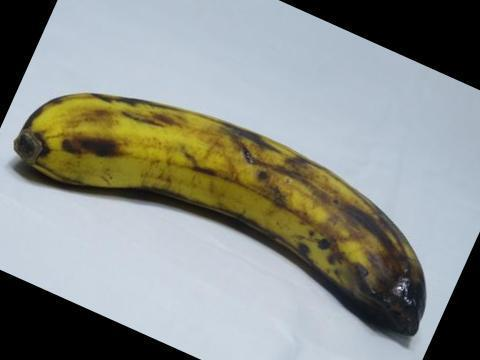overripe: (7, 87, 430, 337)
